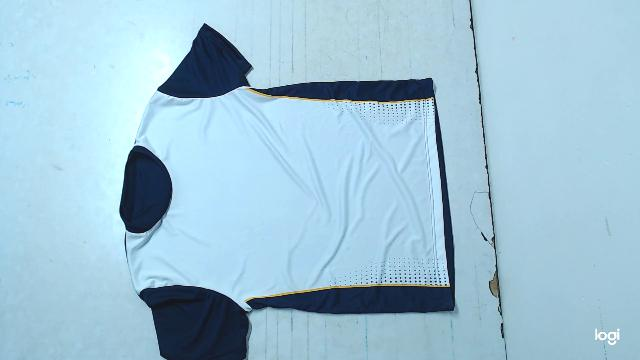new-garment: (120, 24, 454, 360)
